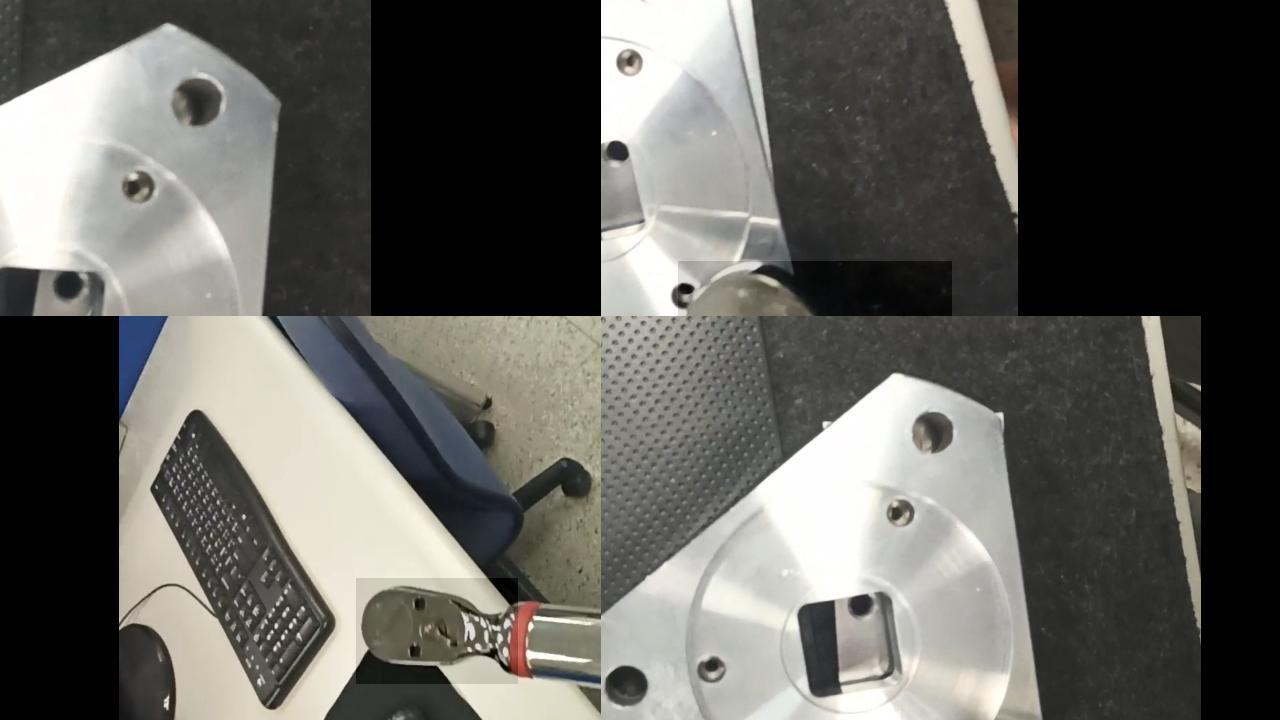Tool: (361, 578, 515, 683), (676, 259, 951, 314)
hole: (169, 73, 228, 131), (602, 660, 653, 714), (910, 406, 962, 458), (119, 168, 158, 207), (699, 651, 734, 691), (616, 45, 651, 79), (662, 279, 699, 310), (886, 493, 914, 529)
